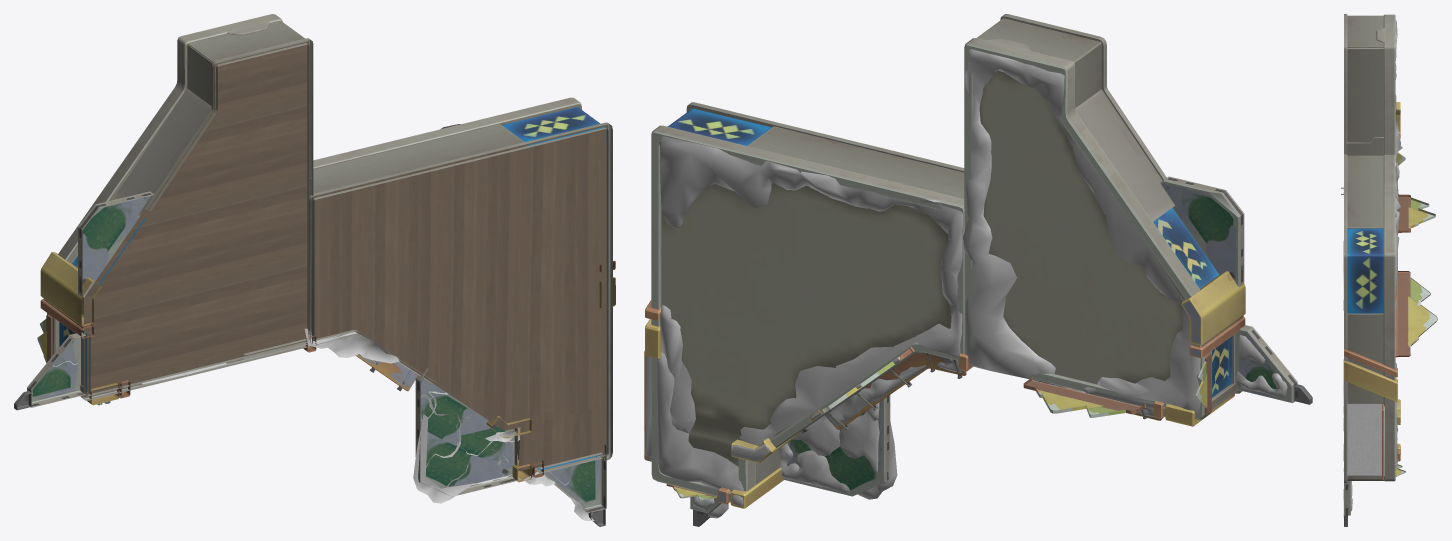
The model's file is pref_sm_city_shop01_snow_lv3.fbx.
3 views of the same model, side by side, from view 1: azimuth 30°, elevation 25°; view 2: azimuth 150°, elevation 25°; view 3: azimuth 270°, elevation 25° (orthographic). The views are drawn at different scales.
Parts seen in each view (by area): view 1: sm_city_shop01_snow_lv3, sm_city_shop01b_snow_lv3; view 2: sm_city_shop01_snow_lv3, sm_city_shop01b_snow_lv3; view 3: sm_city_shop01_snow_lv3, sm_city_shop01b_snow_lv3.
Part boxes in pixels (box(x1,y1,x2,y2)): sm_city_shop01_snow_lv3: box(14, 14, 615, 526); sm_city_shop01b_snow_lv3: box(32, 124, 599, 520); sm_city_shop01_snow_lv3: box(644, 14, 1312, 526); sm_city_shop01b_snow_lv3: box(644, 49, 1287, 518); sm_city_shop01_snow_lv3: box(1341, 14, 1437, 526); sm_city_shop01b_snow_lv3: box(1343, 20, 1420, 517).
Bounding box in the file's own units: 54.17 × 47.44 × 10.86.
